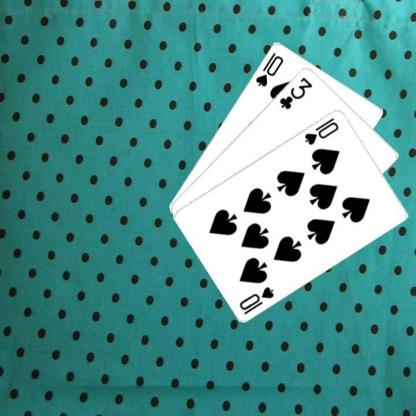10S: (252, 49, 285, 88), (236, 284, 276, 316), (302, 114, 340, 146)
3C: (276, 74, 314, 110)
